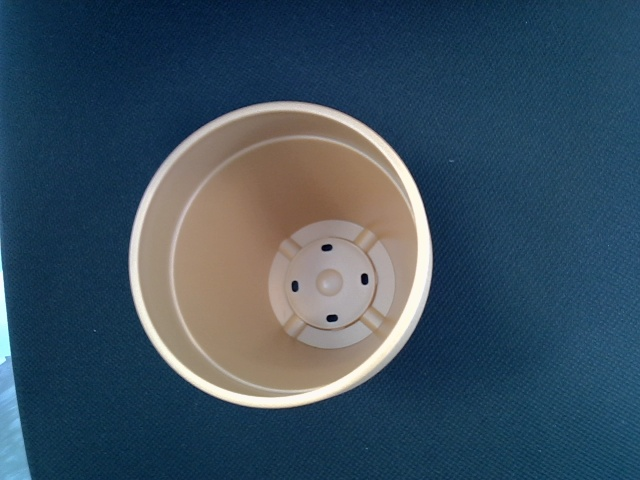화분: (125, 100, 433, 410)
